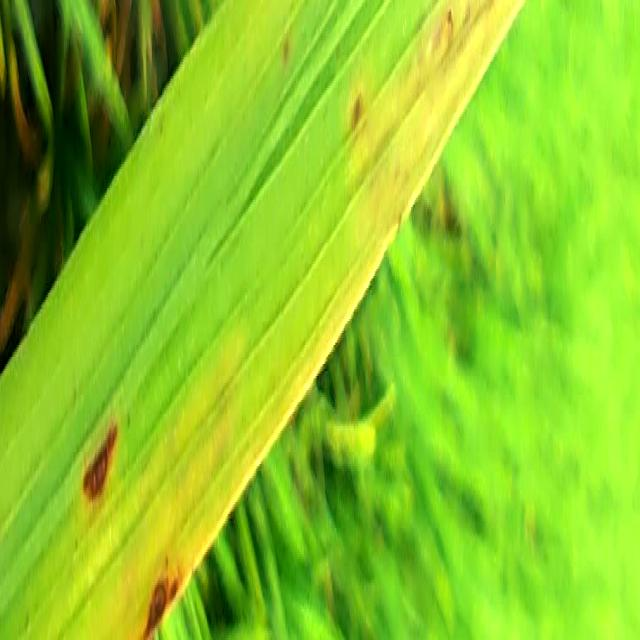LEAF BLAST: (80, 399, 120, 511), (145, 571, 181, 640), (145, 576, 168, 638)
